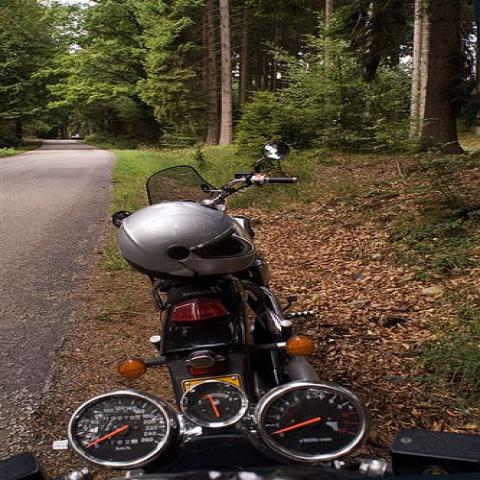motorcycle: (109, 140, 325, 403)
